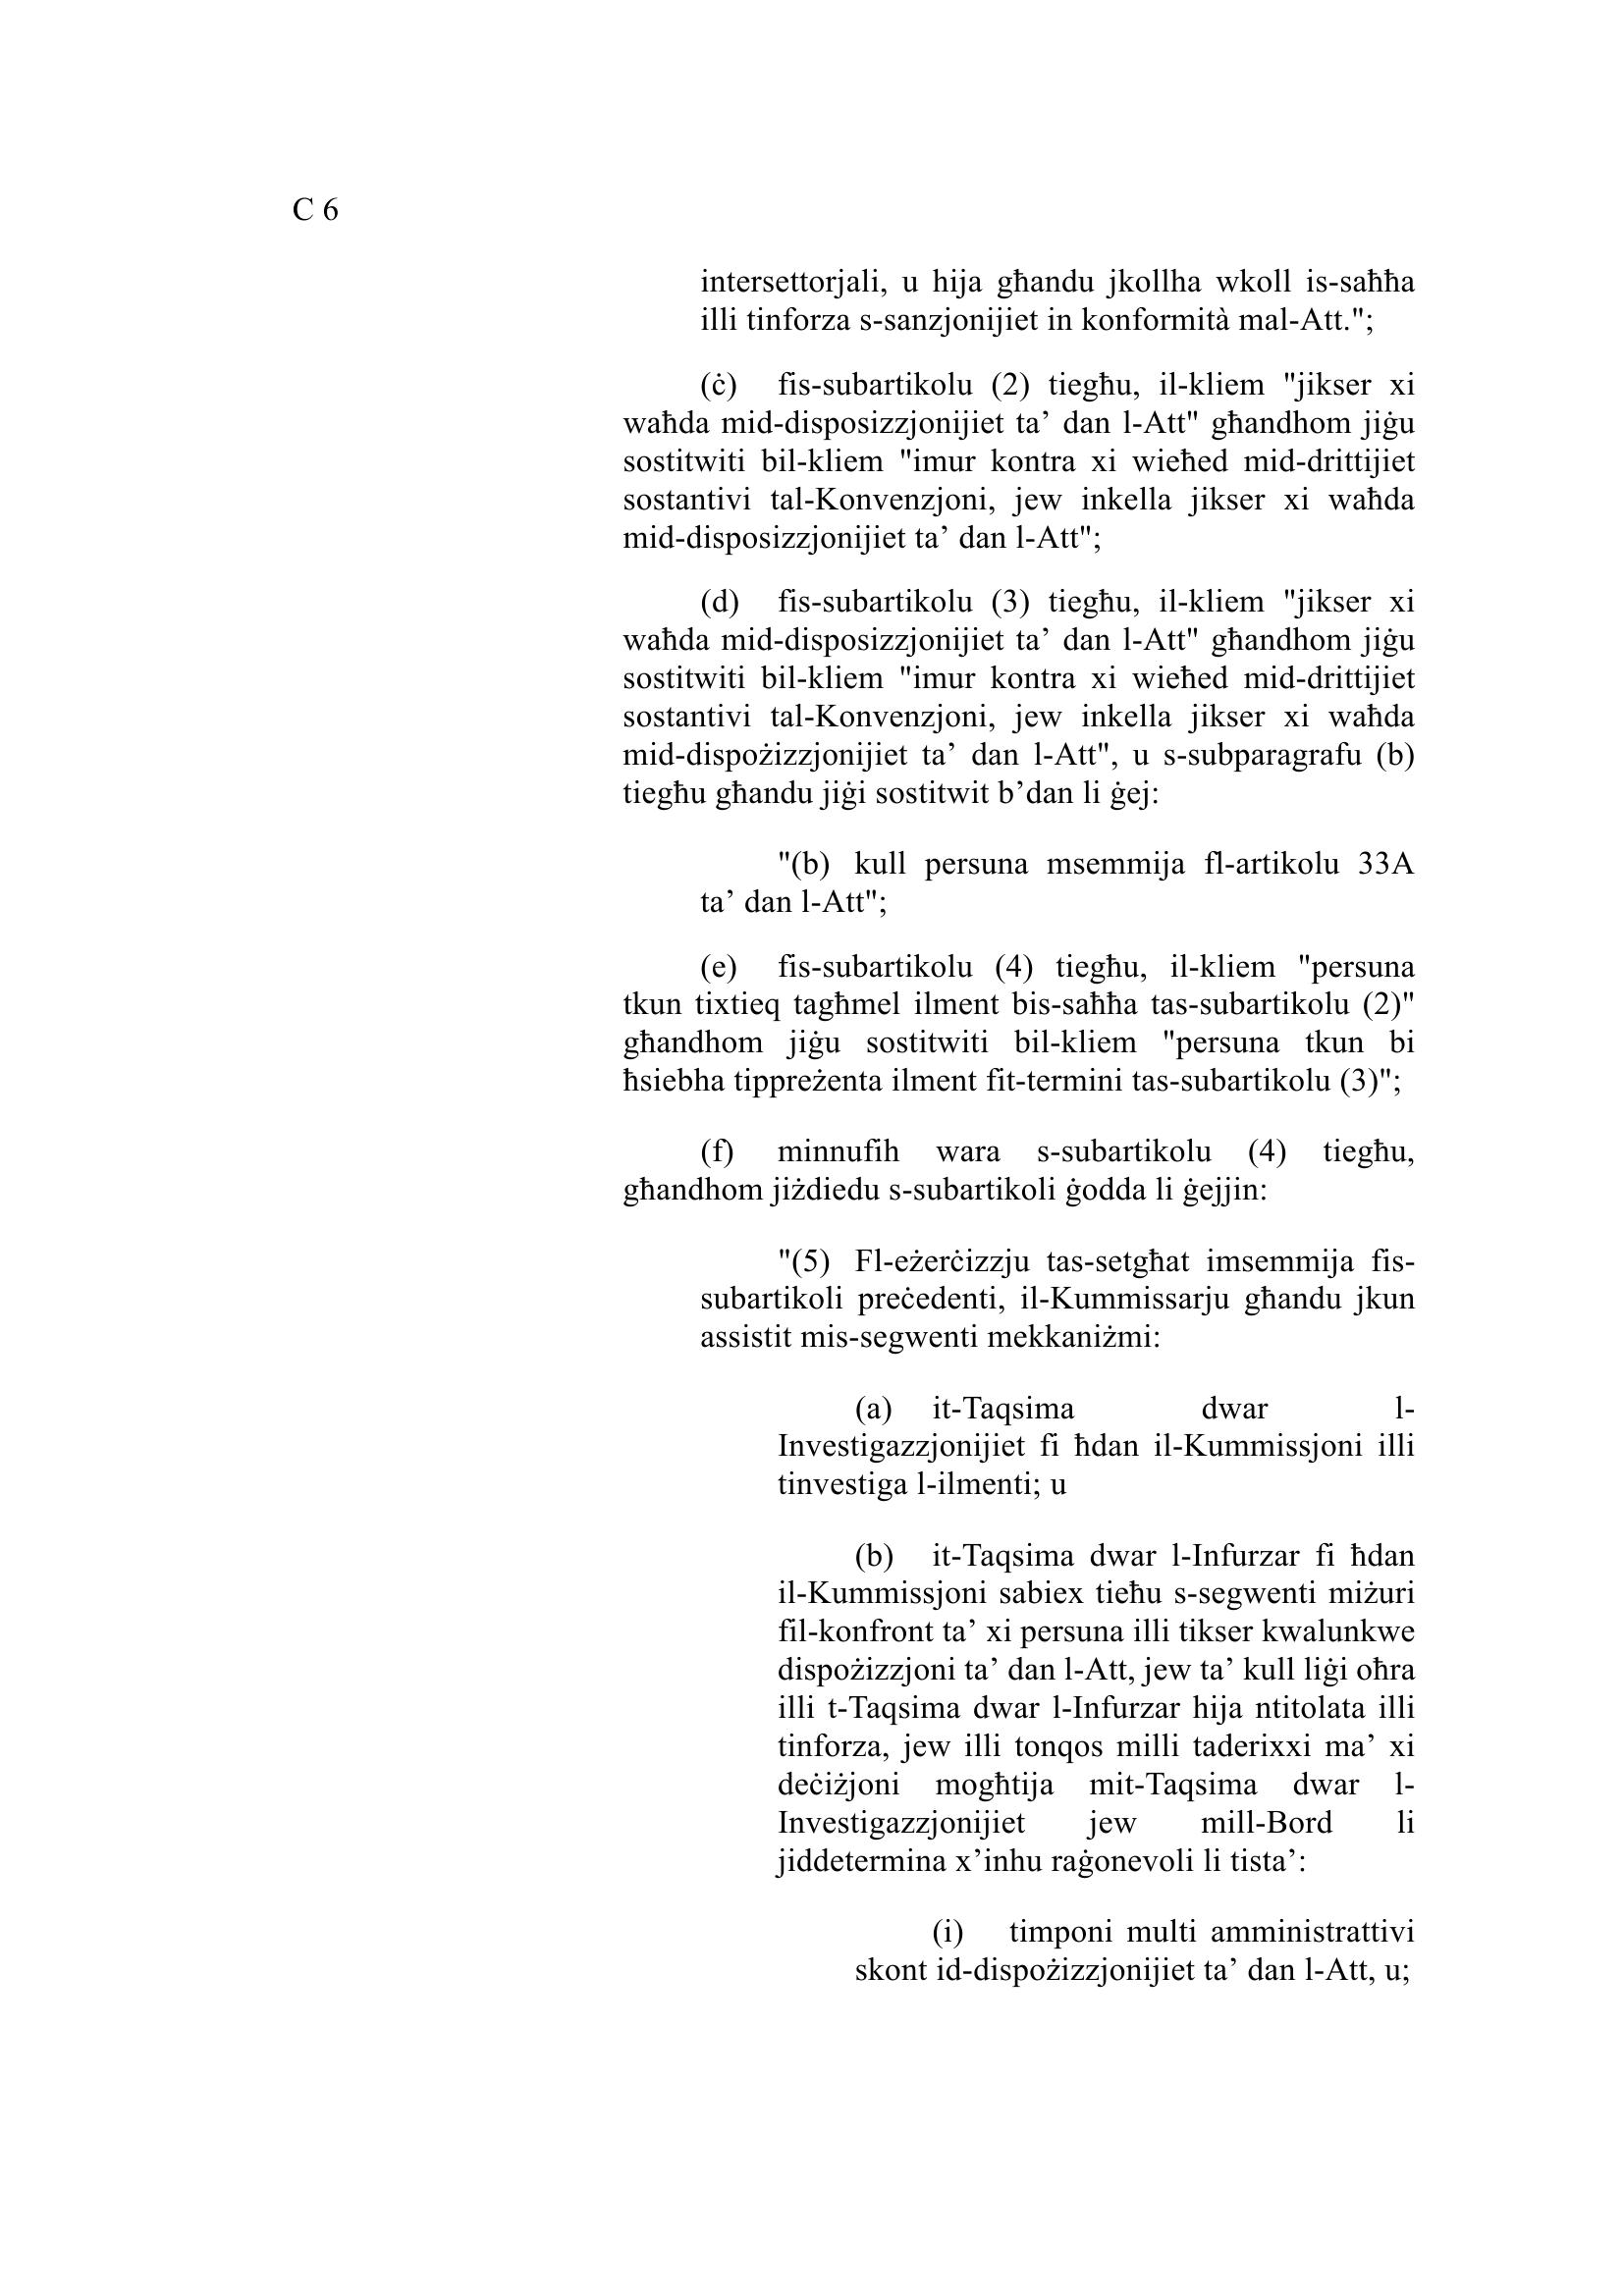text: (599, 211, 1427, 2008)
